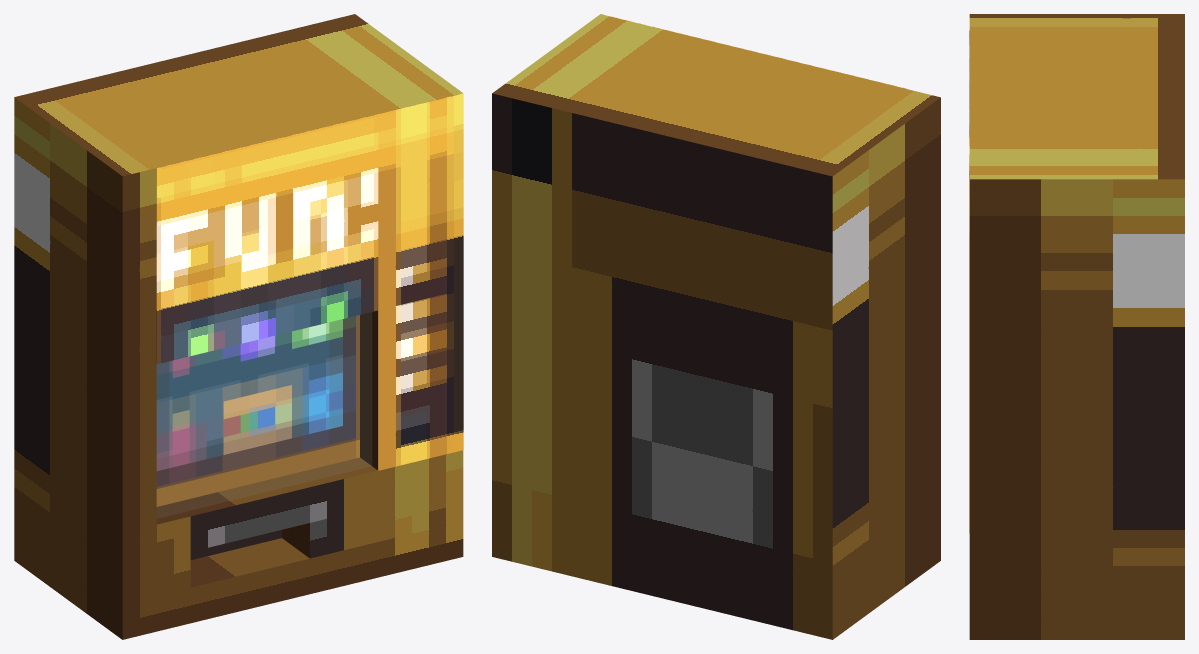
Rendered from vending_games.glb.
The picture shows the model from 3 angles, left to right: view 1: azimuth 30°, elevation 25°; view 2: azimuth 150°, elevation 25°; view 3: azimuth 270°, elevation 25°; orthographic projection.
Parts seen in each view (by area): view 1: vending_games_Cabinet, vending_games, vending_games_Display_Glass, vending_games_Delivery_Flap; view 2: vending_games_Cabinet; view 3: vending_games_Cabinet, vending_games.
Boxes of the visible parts, left/top/right/bottom form: vending_games_Cabinet: left=14, top=14, right=463, bottom=639; vending_games: left=156, top=93, right=463, bottom=506; vending_games_Display_Glass: left=157, top=313, right=371, bottom=517; vending_games_Delivery_Flap: left=190, top=530, right=281, bottom=559; vending_games_Cabinet: left=492, top=14, right=940, bottom=639; vending_games_Cabinet: left=969, top=14, right=1184, bottom=639; vending_games: left=969, top=31, right=969, bottom=533.
Size of the model in its own units: 1.2 by 1.56 by 0.662.
Materials: 4 (3 with a texture image).
